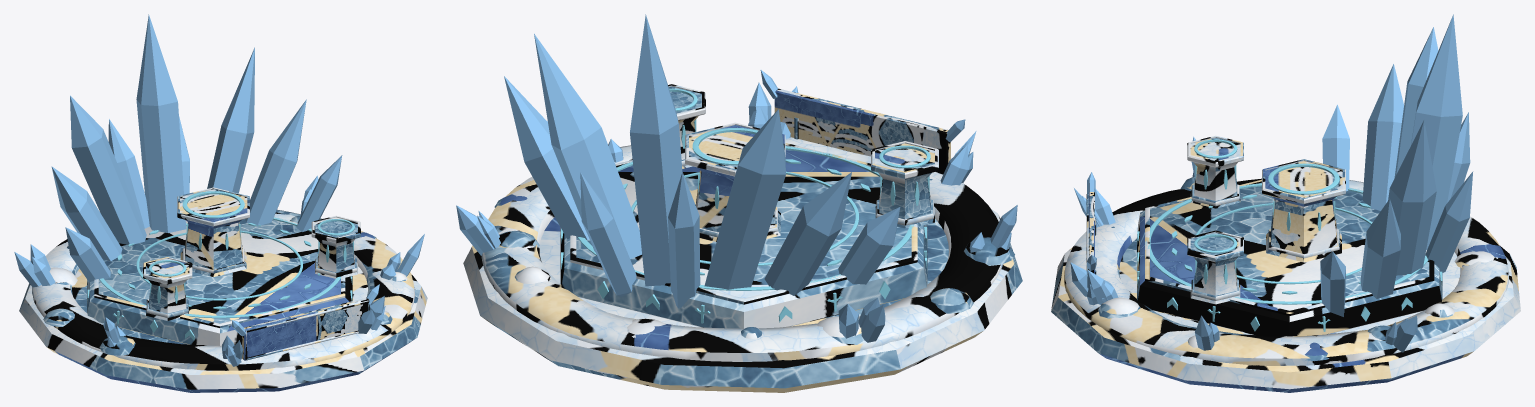
The model's file is Ice_Stand.fbx.
3 views of the same model, side by side, from view 1: azimuth 30°, elevation 25°; view 2: azimuth 150°, elevation 25°; view 3: azimuth 270°, elevation 25° (orthographic). The views are drawn at different scales.
Visible parts, largest first — view 1: Ice_Stand_Crystals, Ice_Stand_Base, Ice_Stand_Snow, Ice_Stand_Pedestals, Ice_Stand_Trim, Ice_Stand_Glow, Ice_Stand_SignPlate; view 2: Ice_Stand_Crystals, Ice_Stand_Base, Ice_Stand_Snow, Ice_Stand_Pedestals, Ice_Stand_SignPlate, Ice_Stand_Trim, Ice_Stand_Glow; view 3: Ice_Stand_Base, Ice_Stand_Crystals, Ice_Stand_Snow, Ice_Stand_Pedestals, Ice_Stand_Trim, Ice_Stand_Glow, Ice_Stand_SignPlate.
Boxes of the visible parts, <box> form: Ice_Stand_Crystals: <box>14,14,424,366</box>; Ice_Stand_Base: <box>19,219,427,392</box>; Ice_Stand_Snow: <box>32,209,414,370</box>; Ice_Stand_Pedestals: <box>146,189,357,320</box>; Ice_Stand_Trim: <box>94,187,368,360</box>; Ice_Stand_Glow: <box>87,191,354,340</box>; Ice_Stand_SignPlate: <box>242,298,369,360</box>; Ice_Stand_Crystals: <box>456,14,1017,342</box>; Ice_Stand_Base: <box>463,150,1022,392</box>; Ice_Stand_Snow: <box>481,137,1014,361</box>; Ice_Stand_Pedestals: <box>669,86,934,241</box>; Ice_Stand_SignPlate: <box>774,88,950,174</box>; Ice_Stand_Trim: <box>570,84,938,304</box>; Ice_Stand_Glow: <box>561,88,930,323</box>; Ice_Stand_Base: <box>1051,182,1520,392</box>; Ice_Stand_Crystals: <box>1070,14,1473,352</box>; Ice_Stand_Snow: <box>1064,176,1509,365</box>; Ice_Stand_Pedestals: <box>1190,137,1342,304</box>; Ice_Stand_Trim: <box>1086,135,1434,315</box>; Ice_Stand_Glow: <box>1137,139,1442,331</box>; Ice_Stand_SignPlate: <box>1088,192,1094,273</box>.
Bounding box in the file's own units: 981 × 654 × 985.
Materials: 3 (1 with a texture image).
